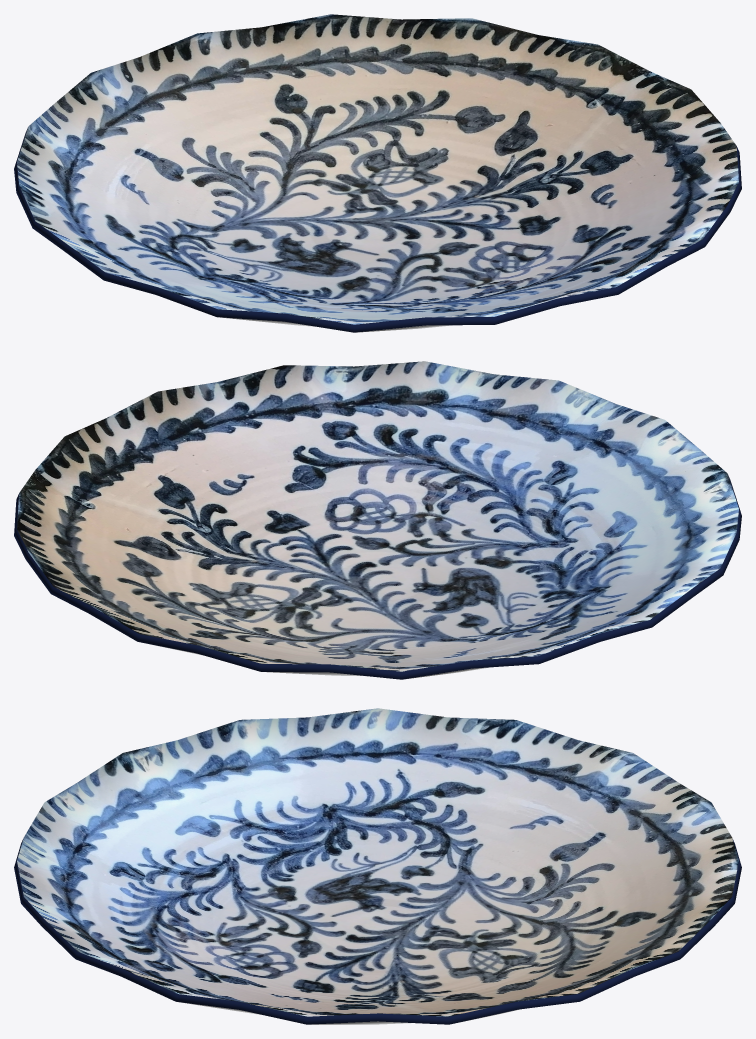
The model's file is mdl_paprika_dish.gltf.
3 views of the same model, one above another, from view 1: azimuth 30°, elevation 25°; view 2: azimuth 150°, elevation 25°; view 3: azimuth 270°, elevation 25° (orthographic).
Visible parts, largest first — view 1: Decorative Dish in Granada Style_0; view 2: Decorative Dish in Granada Style_0; view 3: Decorative Dish in Granada Style_0.
Boxes of the visible parts, x1=… form: Decorative Dish in Granada Style_0: x1=14, y1=14, x2=741, y2=332; Decorative Dish in Granada Style_0: x1=14, y1=361, x2=741, y2=679; Decorative Dish in Granada Style_0: x1=14, y1=708, x2=741, y2=1024.
Bounding box in the file's own units: 0.2722 × 0.0375 × 0.2722.
3 materials, 1 textured.
